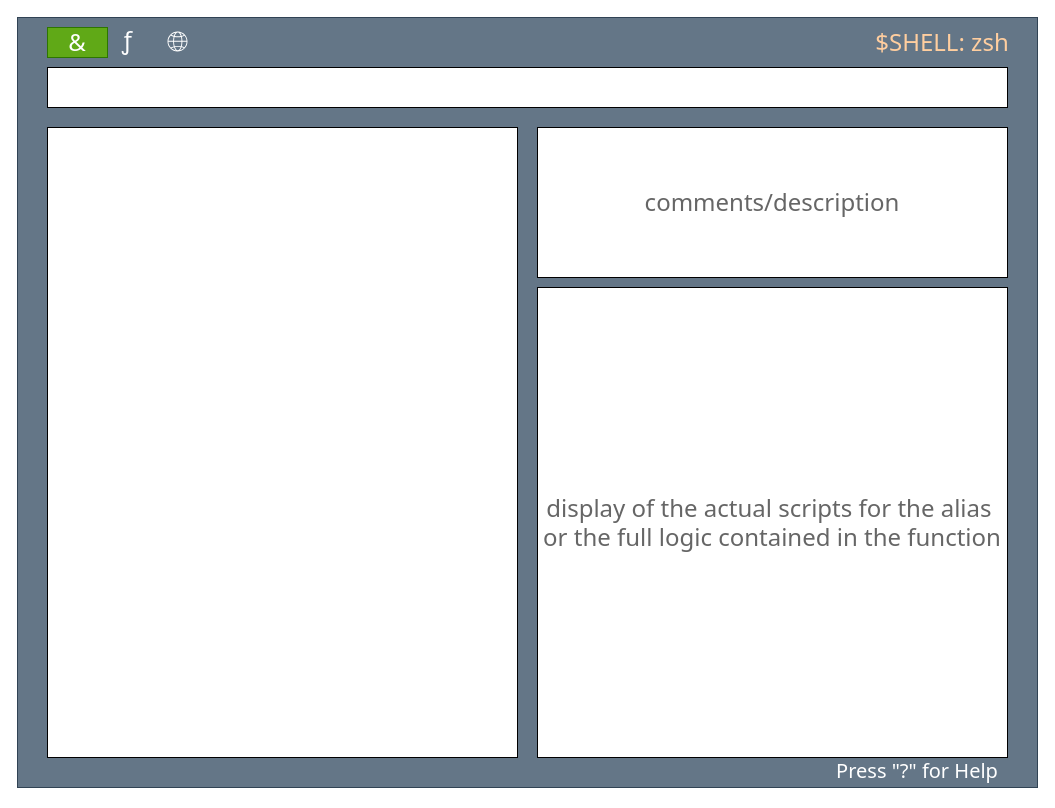
The diagram is 1055 pixels wide and 808 high, and some of its shapes have lost their labels. The box of each missing label's shape, as (x1, y1, x2, y2) in pixels:
list of aliases/functions: (46, 126, 518, 758)
search bar: (46, 66, 1008, 108)
